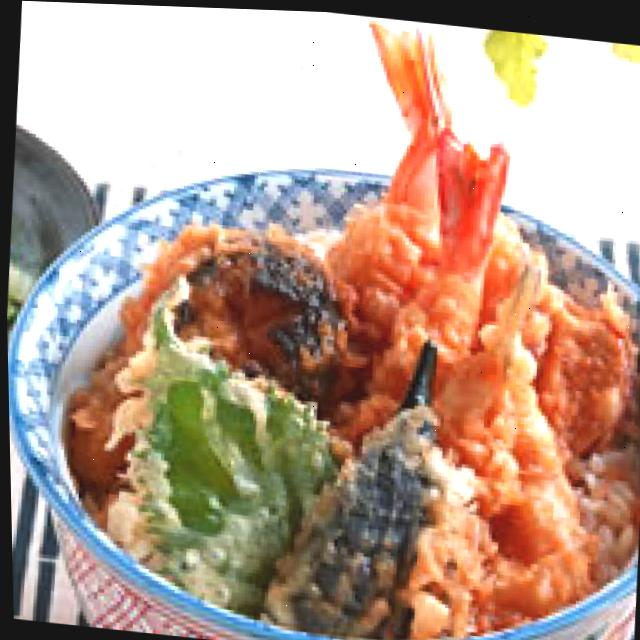熟制海鲜: (1, 74, 640, 640)
